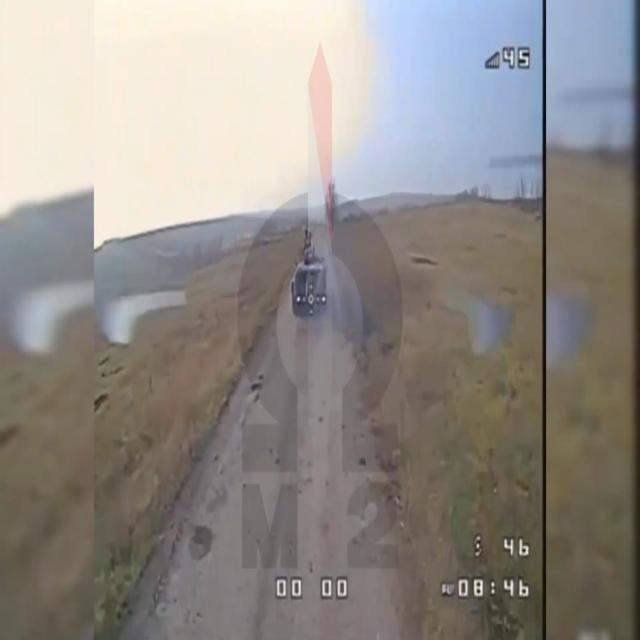apc: (292, 254, 328, 316)
